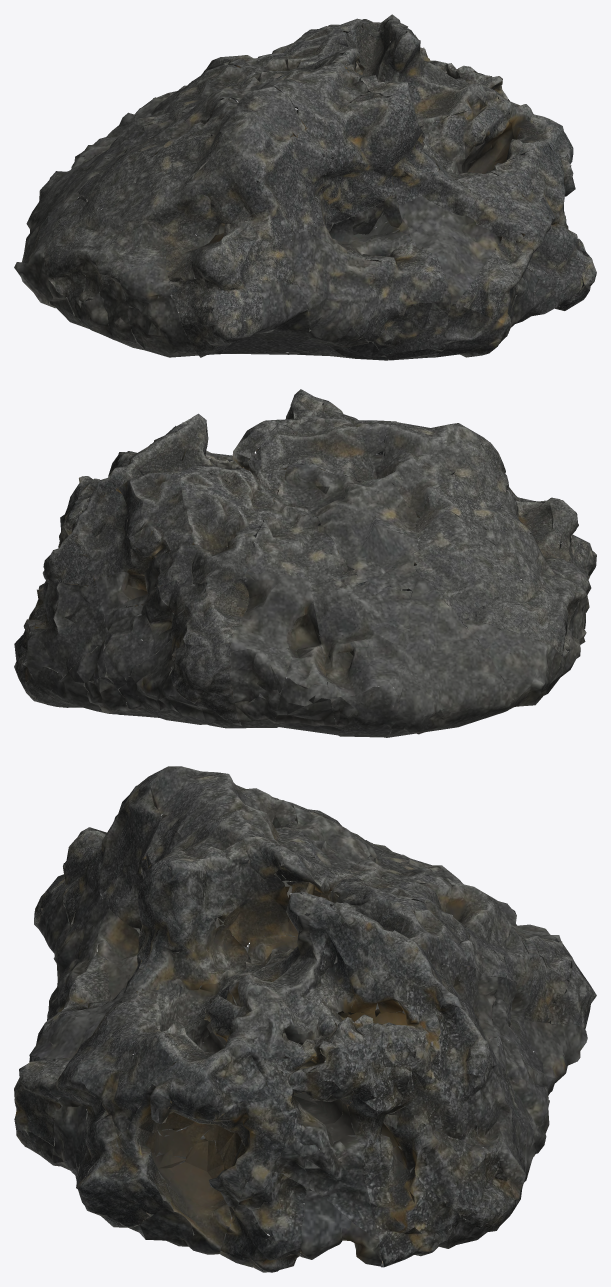
File: rock_c_optimized.glb
3 views of the same model, one above another, from view 1: azimuth 30°, elevation 25°; view 2: azimuth 150°, elevation 25°; view 3: azimuth 270°, elevation 25° (orthographic). The views are drawn at different scales.
Visible parts, largest first — view 1: Mesh_0; view 2: Mesh_0; view 3: Mesh_0.
Boxes of the visible parts, x1,y1,x2,y2 form: Mesh_0: (14, 14, 596, 360); Mesh_0: (14, 389, 596, 737); Mesh_0: (14, 766, 596, 1272).
Size of the model in its own units: 1.9 by 0.9865 by 1.59.
1 material, 1 textured.
